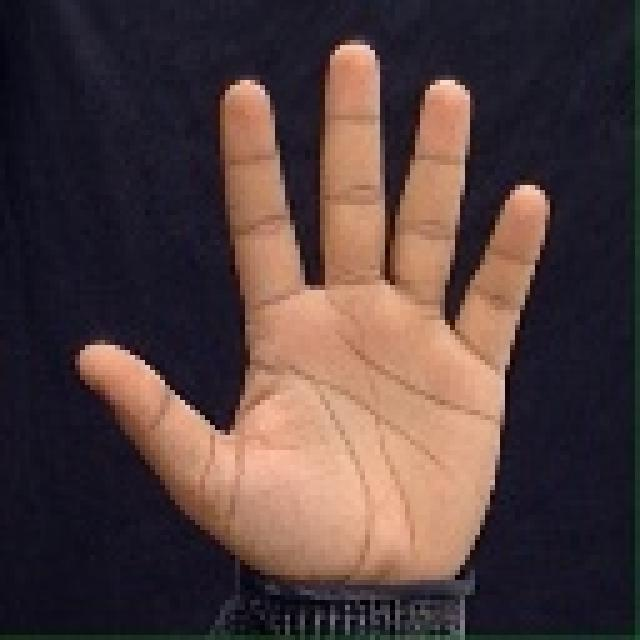Yes: (63, 22, 571, 596)
